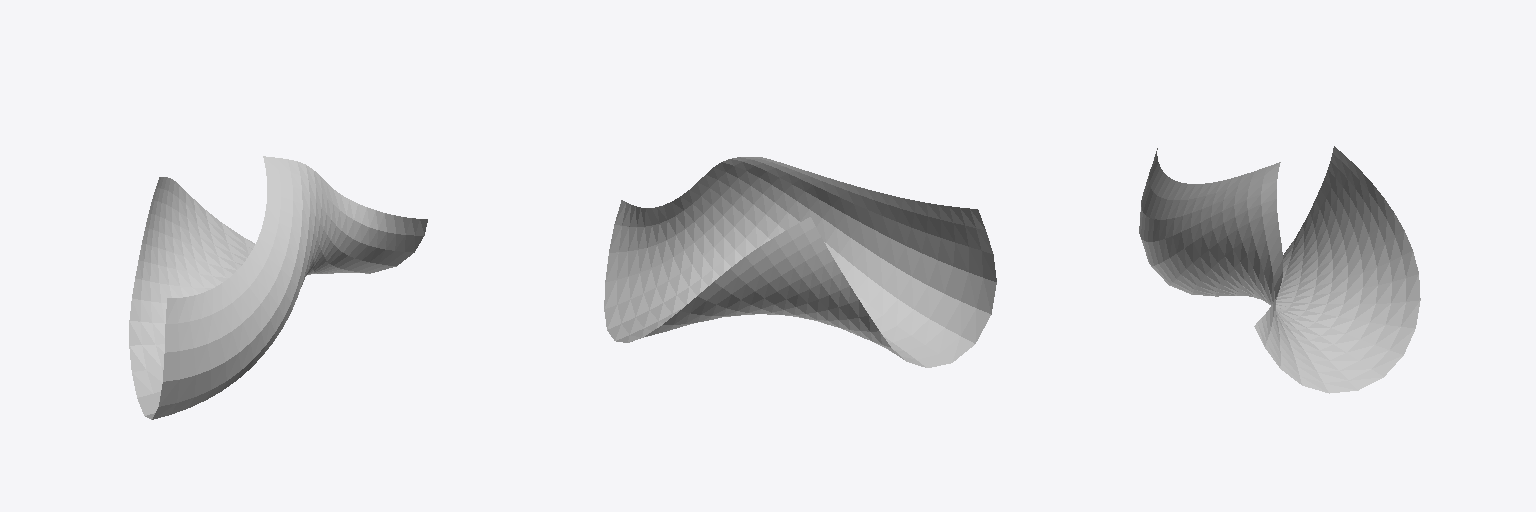
File: Last_ex_3_inv_Qstart.obj
The picture shows the model from 3 angles: view 1: azimuth 30°, elevation 25°; view 2: azimuth 150°, elevation 25°; view 3: azimuth 270°, elevation 25°; orthographic projection.
Visible parts, largest first — view 1: [local-path]/hanan/hananLab/QS_project/data/Remeshing/Last_ex_3_; view 2: [local-path]/hanan/hananLab/QS_project/data/Remeshing/Last_ex_3_; view 3: [local-path]/hanan/hananLab/QS_project/data/Remeshing/Last_ex_3_.
Boxes of the visible parts, box(x1,y1,x2,y2) form: [local-path]/hanan/hananLab/QS_project/data/Remeshing/Last_ex_3_: box(129, 156, 427, 419); [local-path]/hanan/hananLab/QS_project/data/Remeshing/Last_ex_3_: box(604, 157, 996, 367); [local-path]/hanan/hananLab/QS_project/data/Remeshing/Last_ex_3_: box(1139, 146, 1420, 393).
Bounding box in the file's own units: 3.1 × 1.79 × 2.34.